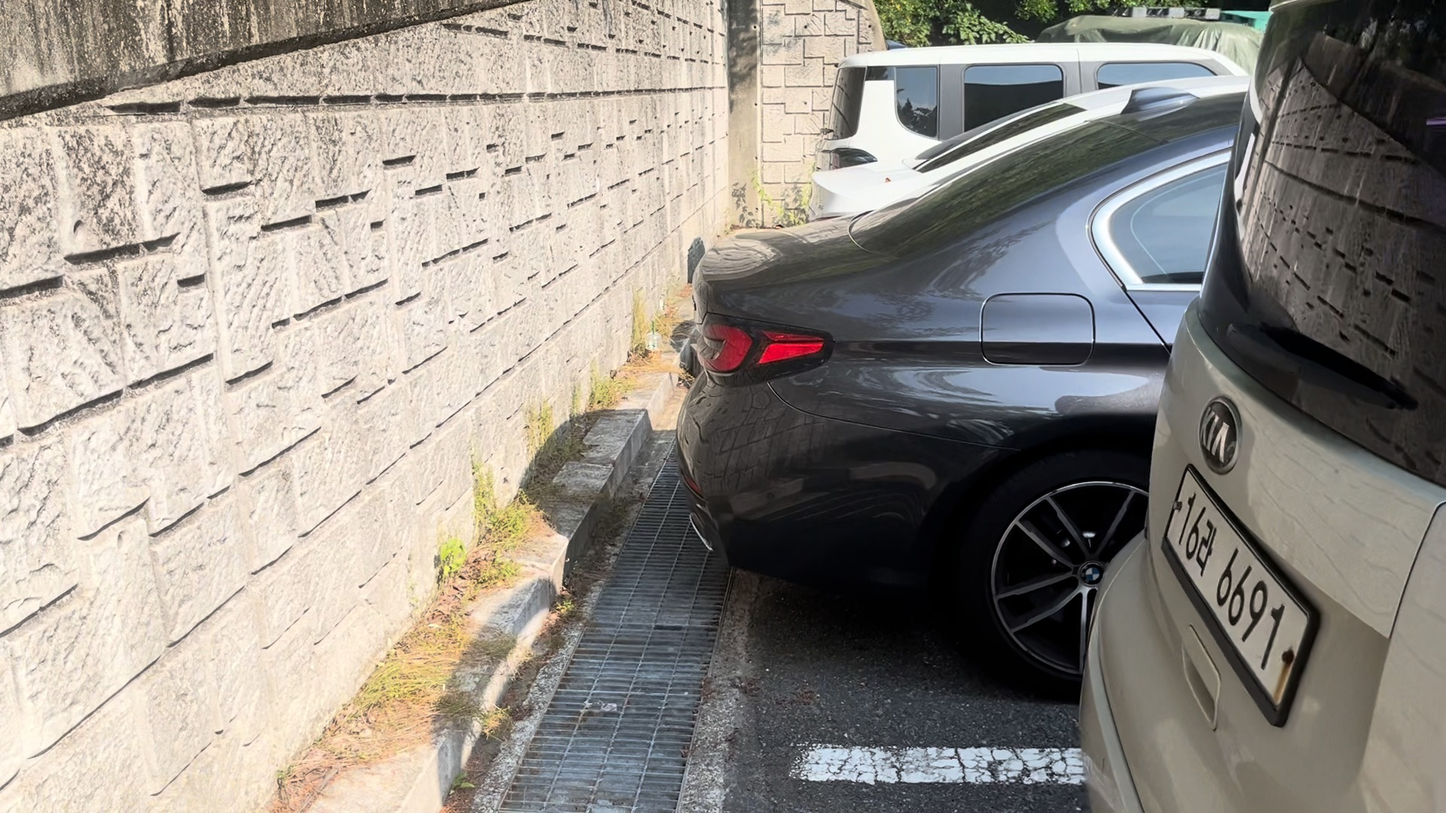car_emblem: (1199, 395, 1241, 467)
license_plate: (1161, 460, 1311, 726)
tail_light: (689, 312, 833, 382)
